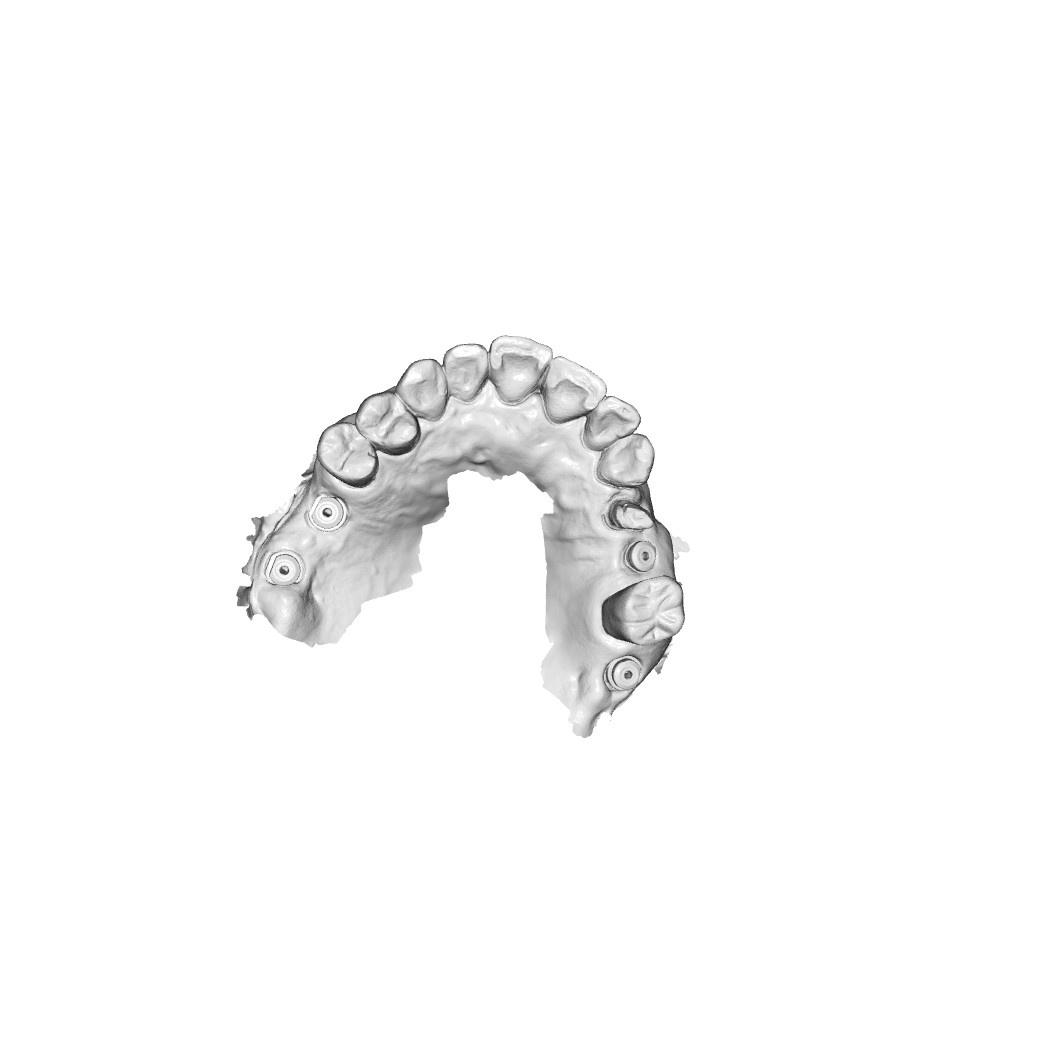canine: (596, 433, 659, 487), (397, 356, 448, 416)
crown: (613, 502, 651, 537)
implant: (605, 655, 646, 694), (264, 548, 302, 590), (621, 537, 657, 574), (311, 497, 345, 529)
incisor: (491, 330, 548, 395), (539, 359, 598, 419), (583, 398, 638, 445), (446, 343, 483, 392)
molar: (599, 576, 691, 645)
premolar: (354, 389, 420, 453), (315, 422, 376, 485)
